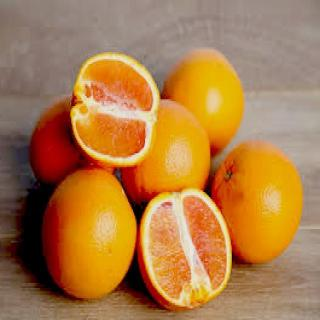orange: (32, 154, 140, 307), (206, 135, 311, 281), (129, 186, 237, 320), (72, 38, 168, 172)
